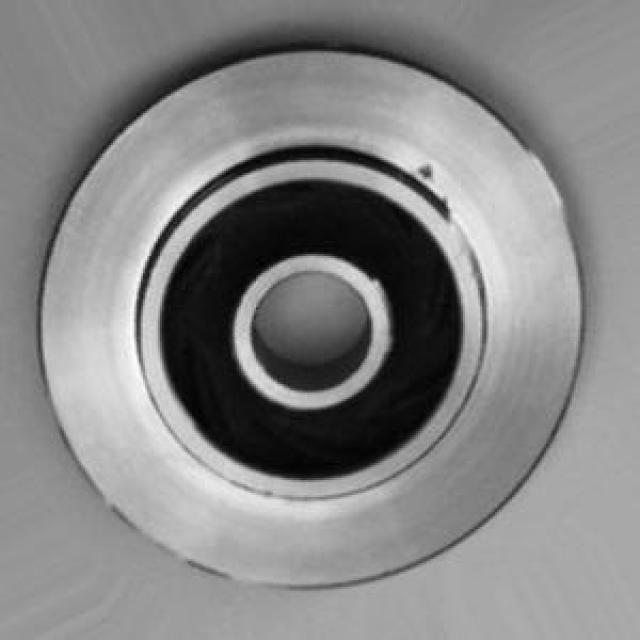Defect: (416, 156, 446, 191)
